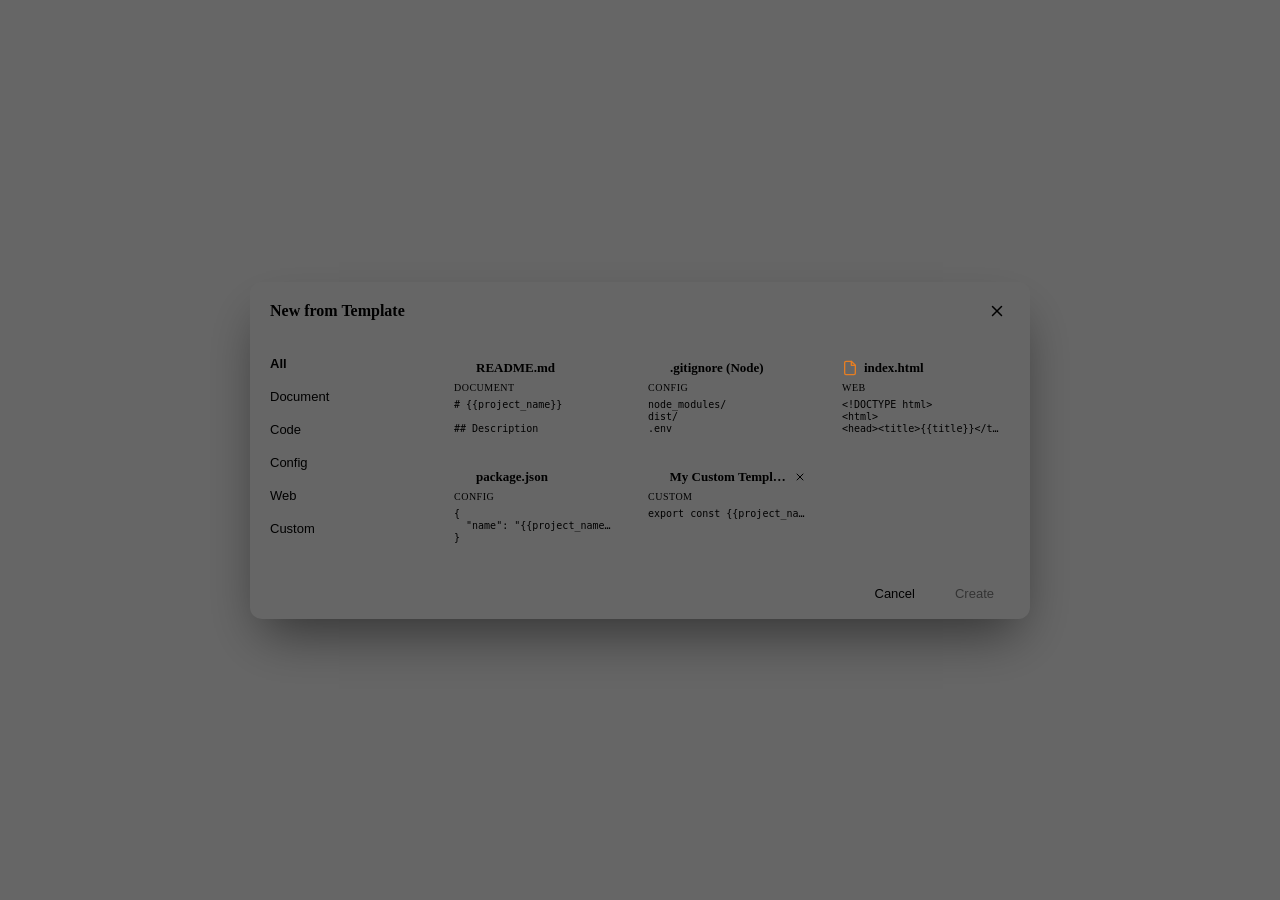
it: TemplatePickerDialog › Category Sidebar › filters templates when a category is selected
Click the button "Document" at [338, 396], box [258, 380, 418, 412]
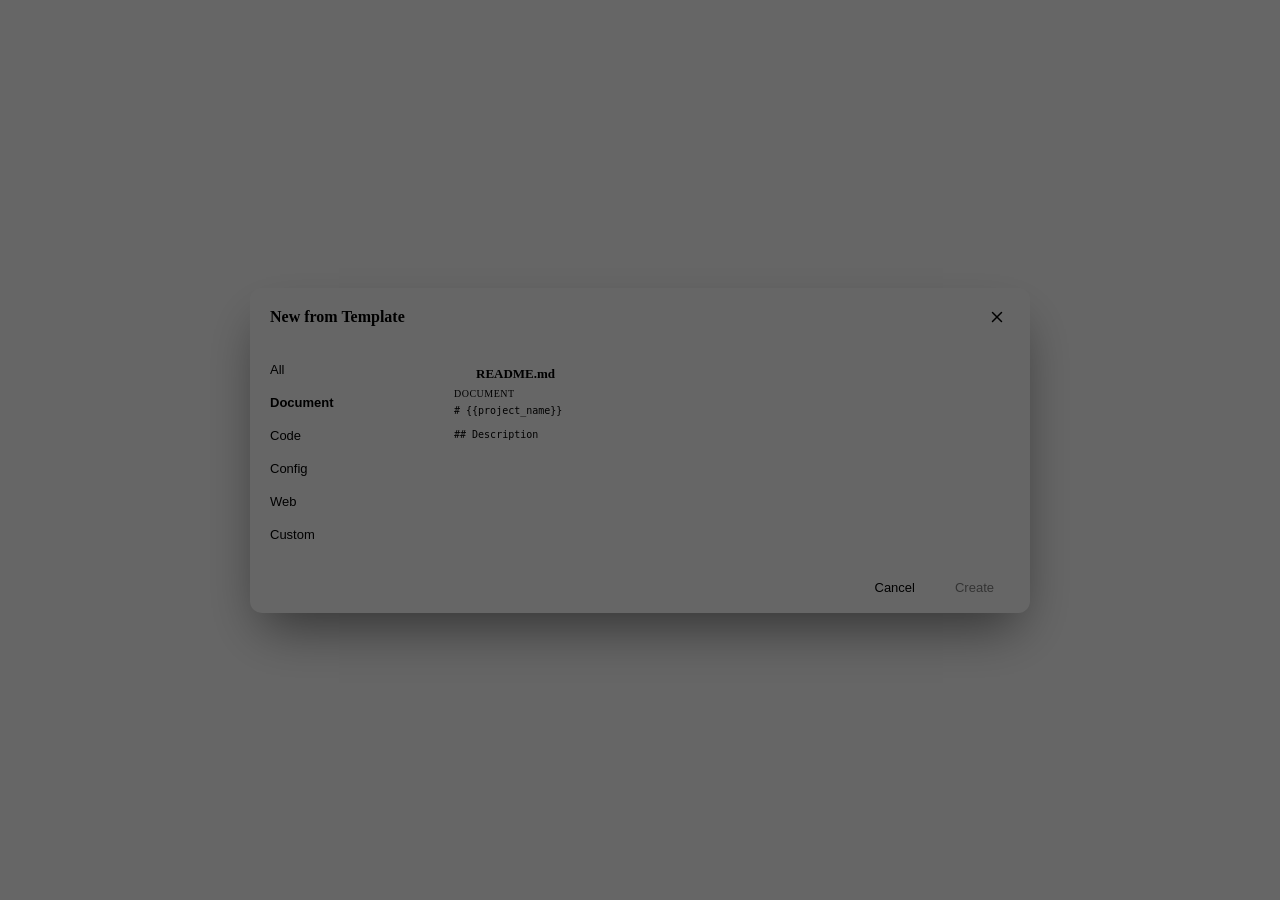
Check: the text "README.md" is shown, box [476, 366, 555, 382]
Check: the button ".gitignore (Node)" is gone
Check: the button "index.html" is gone
